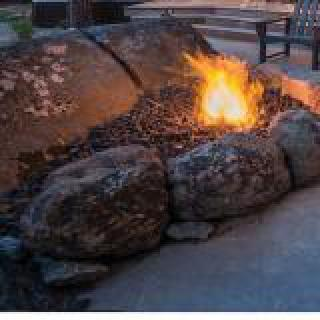fire: (166, 30, 266, 136)
